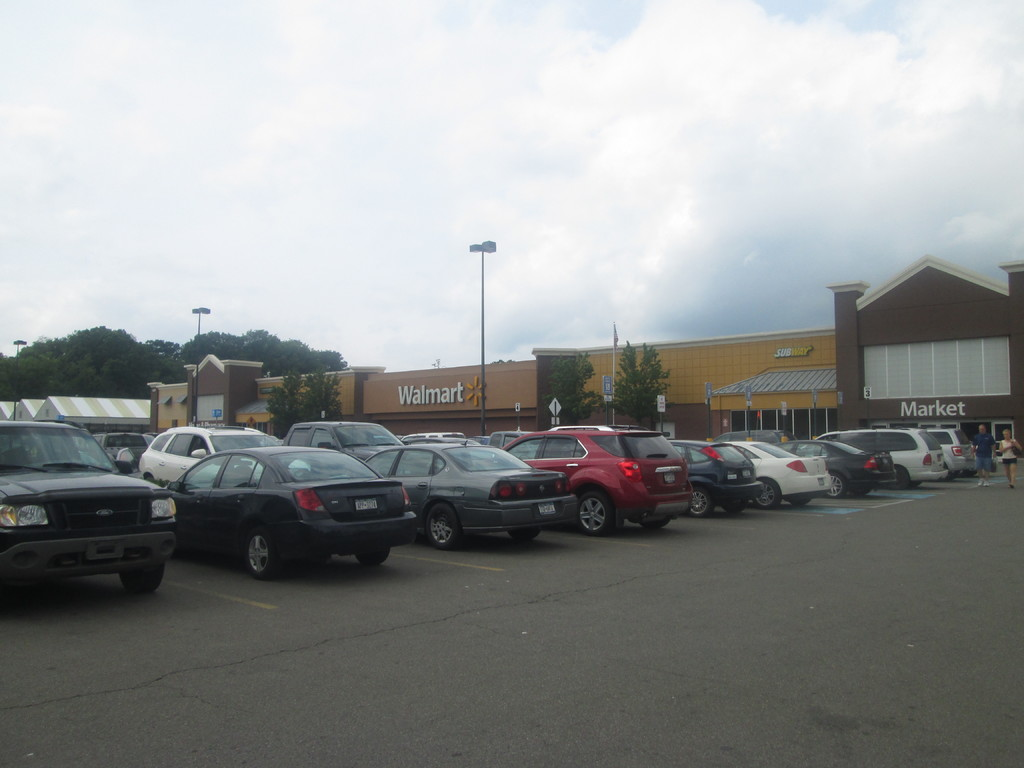Car: (154, 446, 416, 583), (0, 414, 177, 595), (362, 442, 579, 552), (496, 421, 693, 538), (133, 420, 312, 491), (663, 434, 764, 519), (724, 435, 831, 510), (773, 439, 893, 503)
